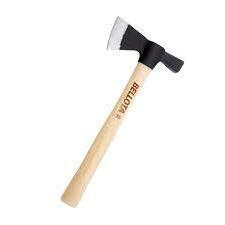machado: (61, 17, 183, 206)
